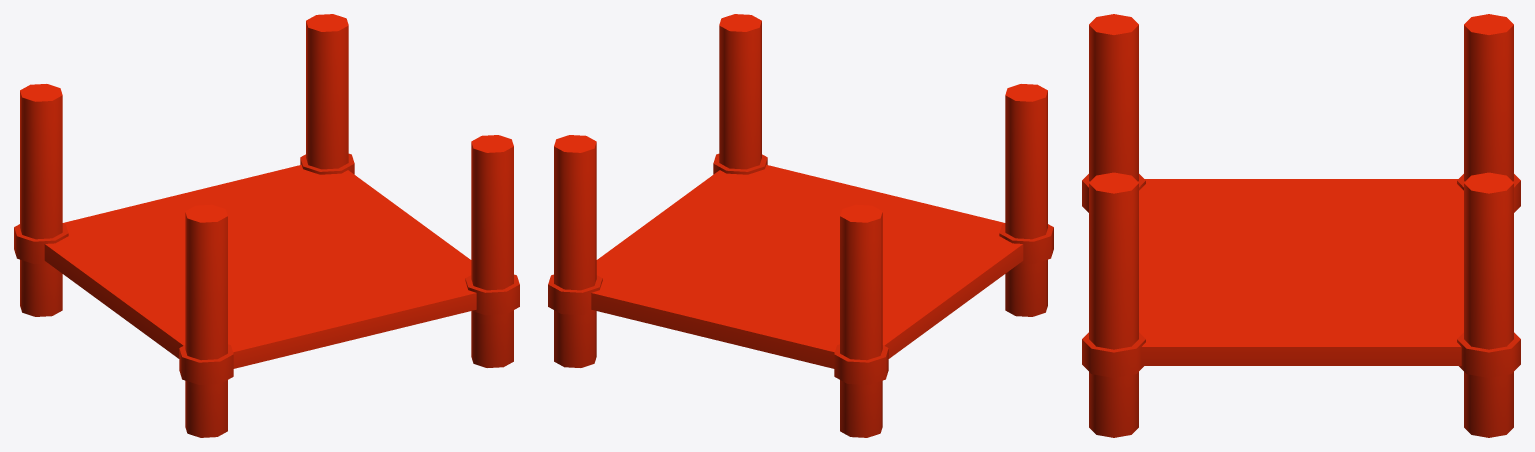
File: Table_Leg_01_S_C04.fbx
3 renders of one model, left to right at view 1: azimuth 30°, elevation 25°; view 2: azimuth 150°, elevation 25°; view 3: azimuth 270°, elevation 25°, orthographic. The views are drawn at different scales.
Visible parts, largest first — view 1: Table_Leg_01_S_C04; view 2: Table_Leg_01_S_C04; view 3: Table_Leg_01_S_C04.
Part boxes in pixels (x1,y1,x2,y2): Table_Leg_01_S_C04: (14, 14, 519, 437); Table_Leg_01_S_C04: (548, 14, 1053, 437); Table_Leg_01_S_C04: (1082, 14, 1520, 437).
Bounding box in the file's own units: 87.78 × 53.91 × 87.78.
